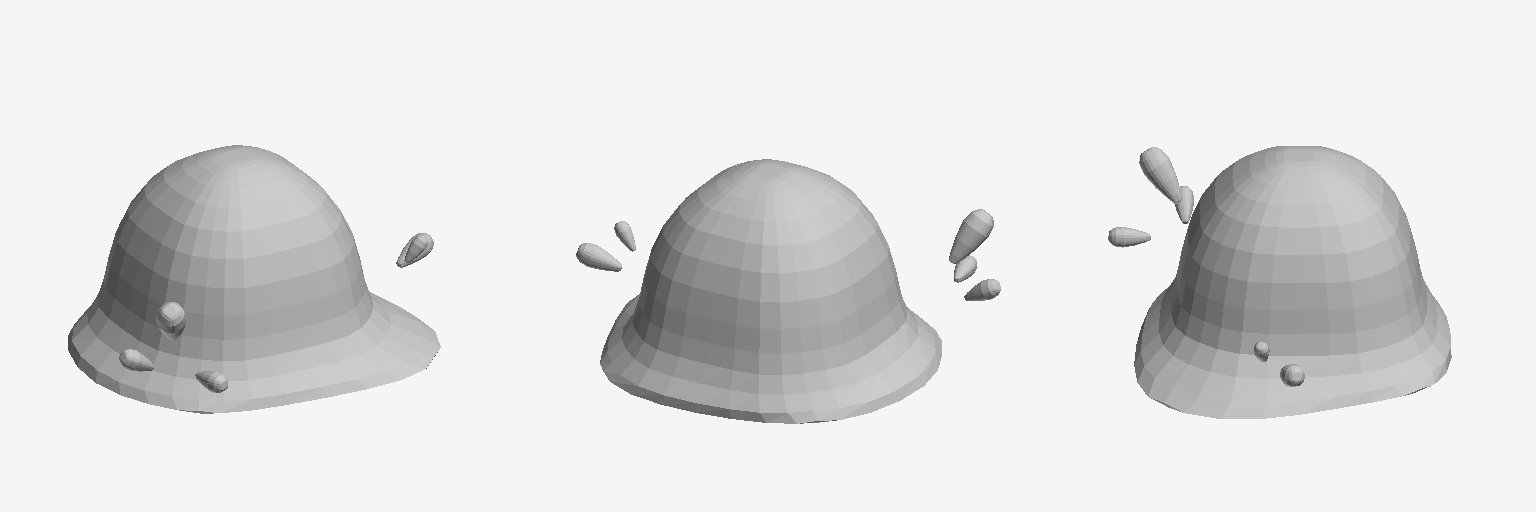
Rendered from PowerUp_slimeConnect_lapu.obj.
3 renders of one model, left to right at view 1: azimuth 30°, elevation 25°; view 2: azimuth 150°, elevation 25°; view 3: azimuth 270°, elevation 25°, orthographic.
Visible parts, largest first — view 1: Plane, Plane.005_Plane.006, Plane.006_Plane.007; view 2: Plane, Plane.005_Plane.006, Plane.003_Plane.004, Plane.006_Plane.007; view 3: Plane, Plane.005_Plane.006, Plane.007_Plane.008.
Part boxes in pixels (x1,y1,x2,y2): Plane: (68, 145, 440, 413); Plane.005_Plane.006: (156, 302, 186, 340); Plane.006_Plane.007: (119, 349, 154, 371); Plane: (600, 159, 941, 423); Plane.005_Plane.006: (949, 209, 993, 263); Plane.003_Plane.004: (576, 243, 621, 271); Plane.006_Plane.007: (964, 279, 1000, 300); Plane: (1134, 146, 1451, 418); Plane.005_Plane.006: (1139, 147, 1181, 203); Plane.007_Plane.008: (1108, 227, 1150, 247).
Bounding box in the file's own units: 2.25 × 1.11 × 1.82.